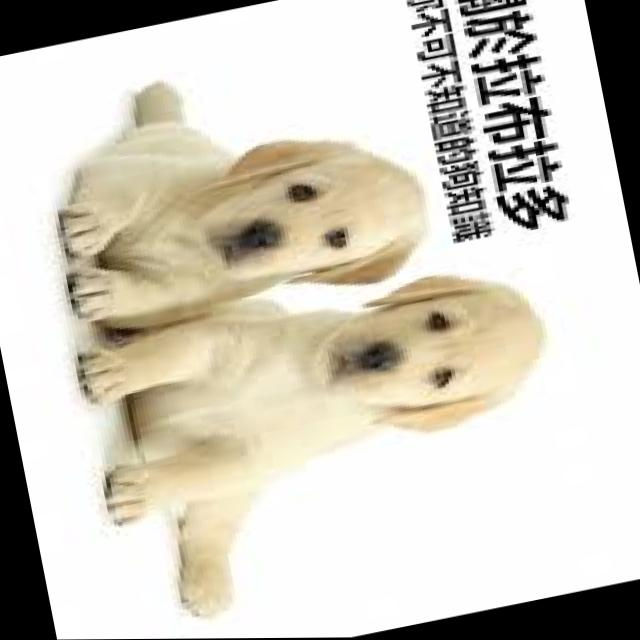Abrador: (74, 258, 589, 635), (33, 37, 440, 346)
